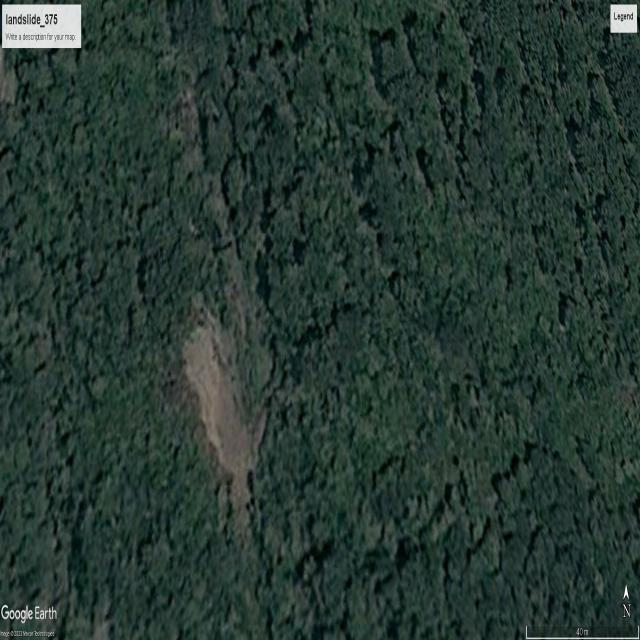Landslide: (177, 309, 259, 521)
